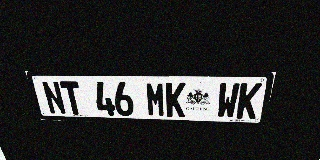4: (92, 82, 116, 116)
6: (112, 82, 134, 116)
K: (236, 83, 262, 119), (166, 82, 186, 117)
M: (145, 82, 166, 117)
N: (41, 81, 67, 115)
T: (59, 81, 85, 115)
W: (216, 83, 240, 118)
